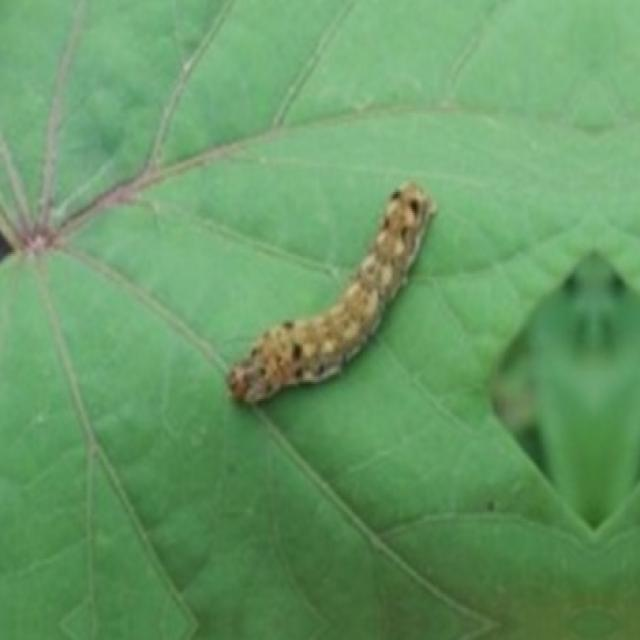armyworm: (224, 178, 436, 406)
